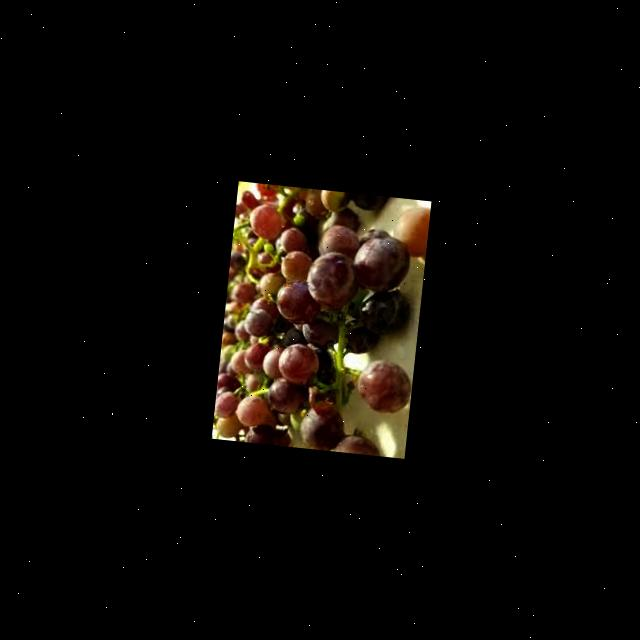grape: (210, 182, 426, 458)
